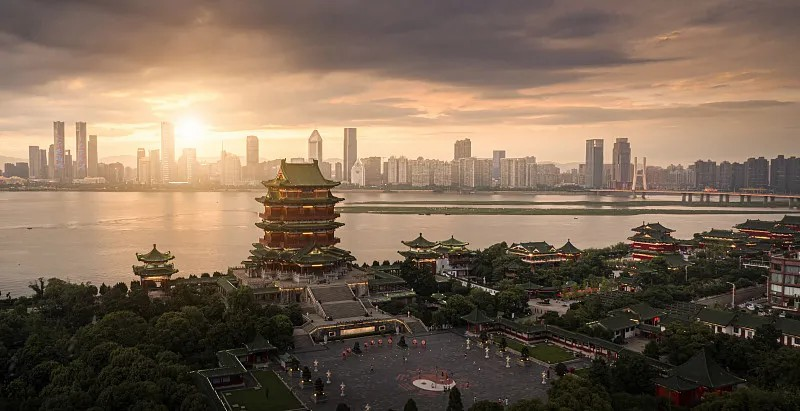Teng: (240, 160, 356, 273)
